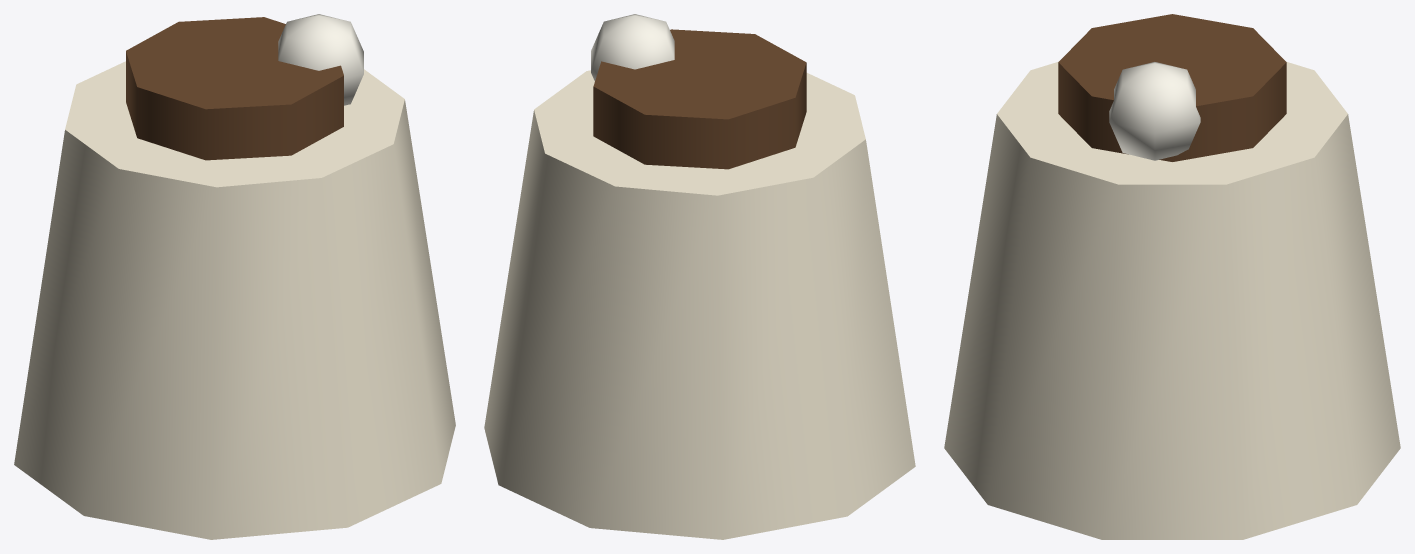
The model's file is item_rice.glb.
The picture shows the model from 3 angles, left to right: view 1: azimuth 30°, elevation 25°; view 2: azimuth 150°, elevation 25°; view 3: azimuth 270°, elevation 25°; orthographic projection. The views are drawn at different scales.
Visible parts, largest first — view 1: item_rice; view 2: item_rice; view 3: item_rice.
Part boxes in pixels (x1,y1,x2,y2): item_rice: [14, 14, 455, 539]; item_rice: [484, 14, 915, 539]; item_rice: [944, 14, 1400, 539].
Size of the model in its own units: 0.4945 by 0.53 by 0.52.
